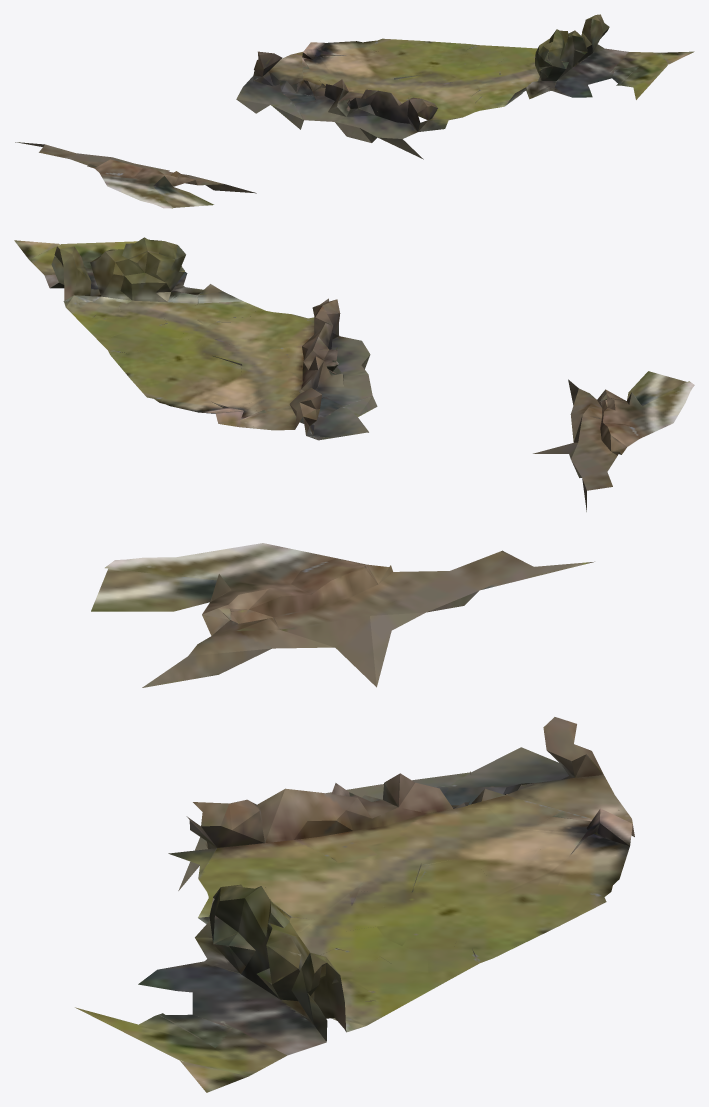
Rendered from Tile_013_014_L16.gltf.
3 renders of one model, top to bottom at view 1: azimuth 30°, elevation 25°; view 2: azimuth 150°, elevation 25°; view 3: azimuth 270°, elevation 25°, orthographic. The views are drawn at different scales.
Parts seen in each view (by area): view 1: Tile_+013_+014_L16; view 2: Tile_+013_+014_L16; view 3: Tile_+013_+014_L16.
Part boxes in pixels (left/top/right/bottom): Tile_+013_+014_L16: left=15, top=14, right=694, bottom=208; Tile_+013_+014_L16: left=14, top=237, right=694, bottom=511; Tile_+013_+014_L16: left=75, top=543, right=634, bottom=1092.
Bounding box in the file's own units: 203 × 25.93 × 84.58.
1 material, 1 textured.
